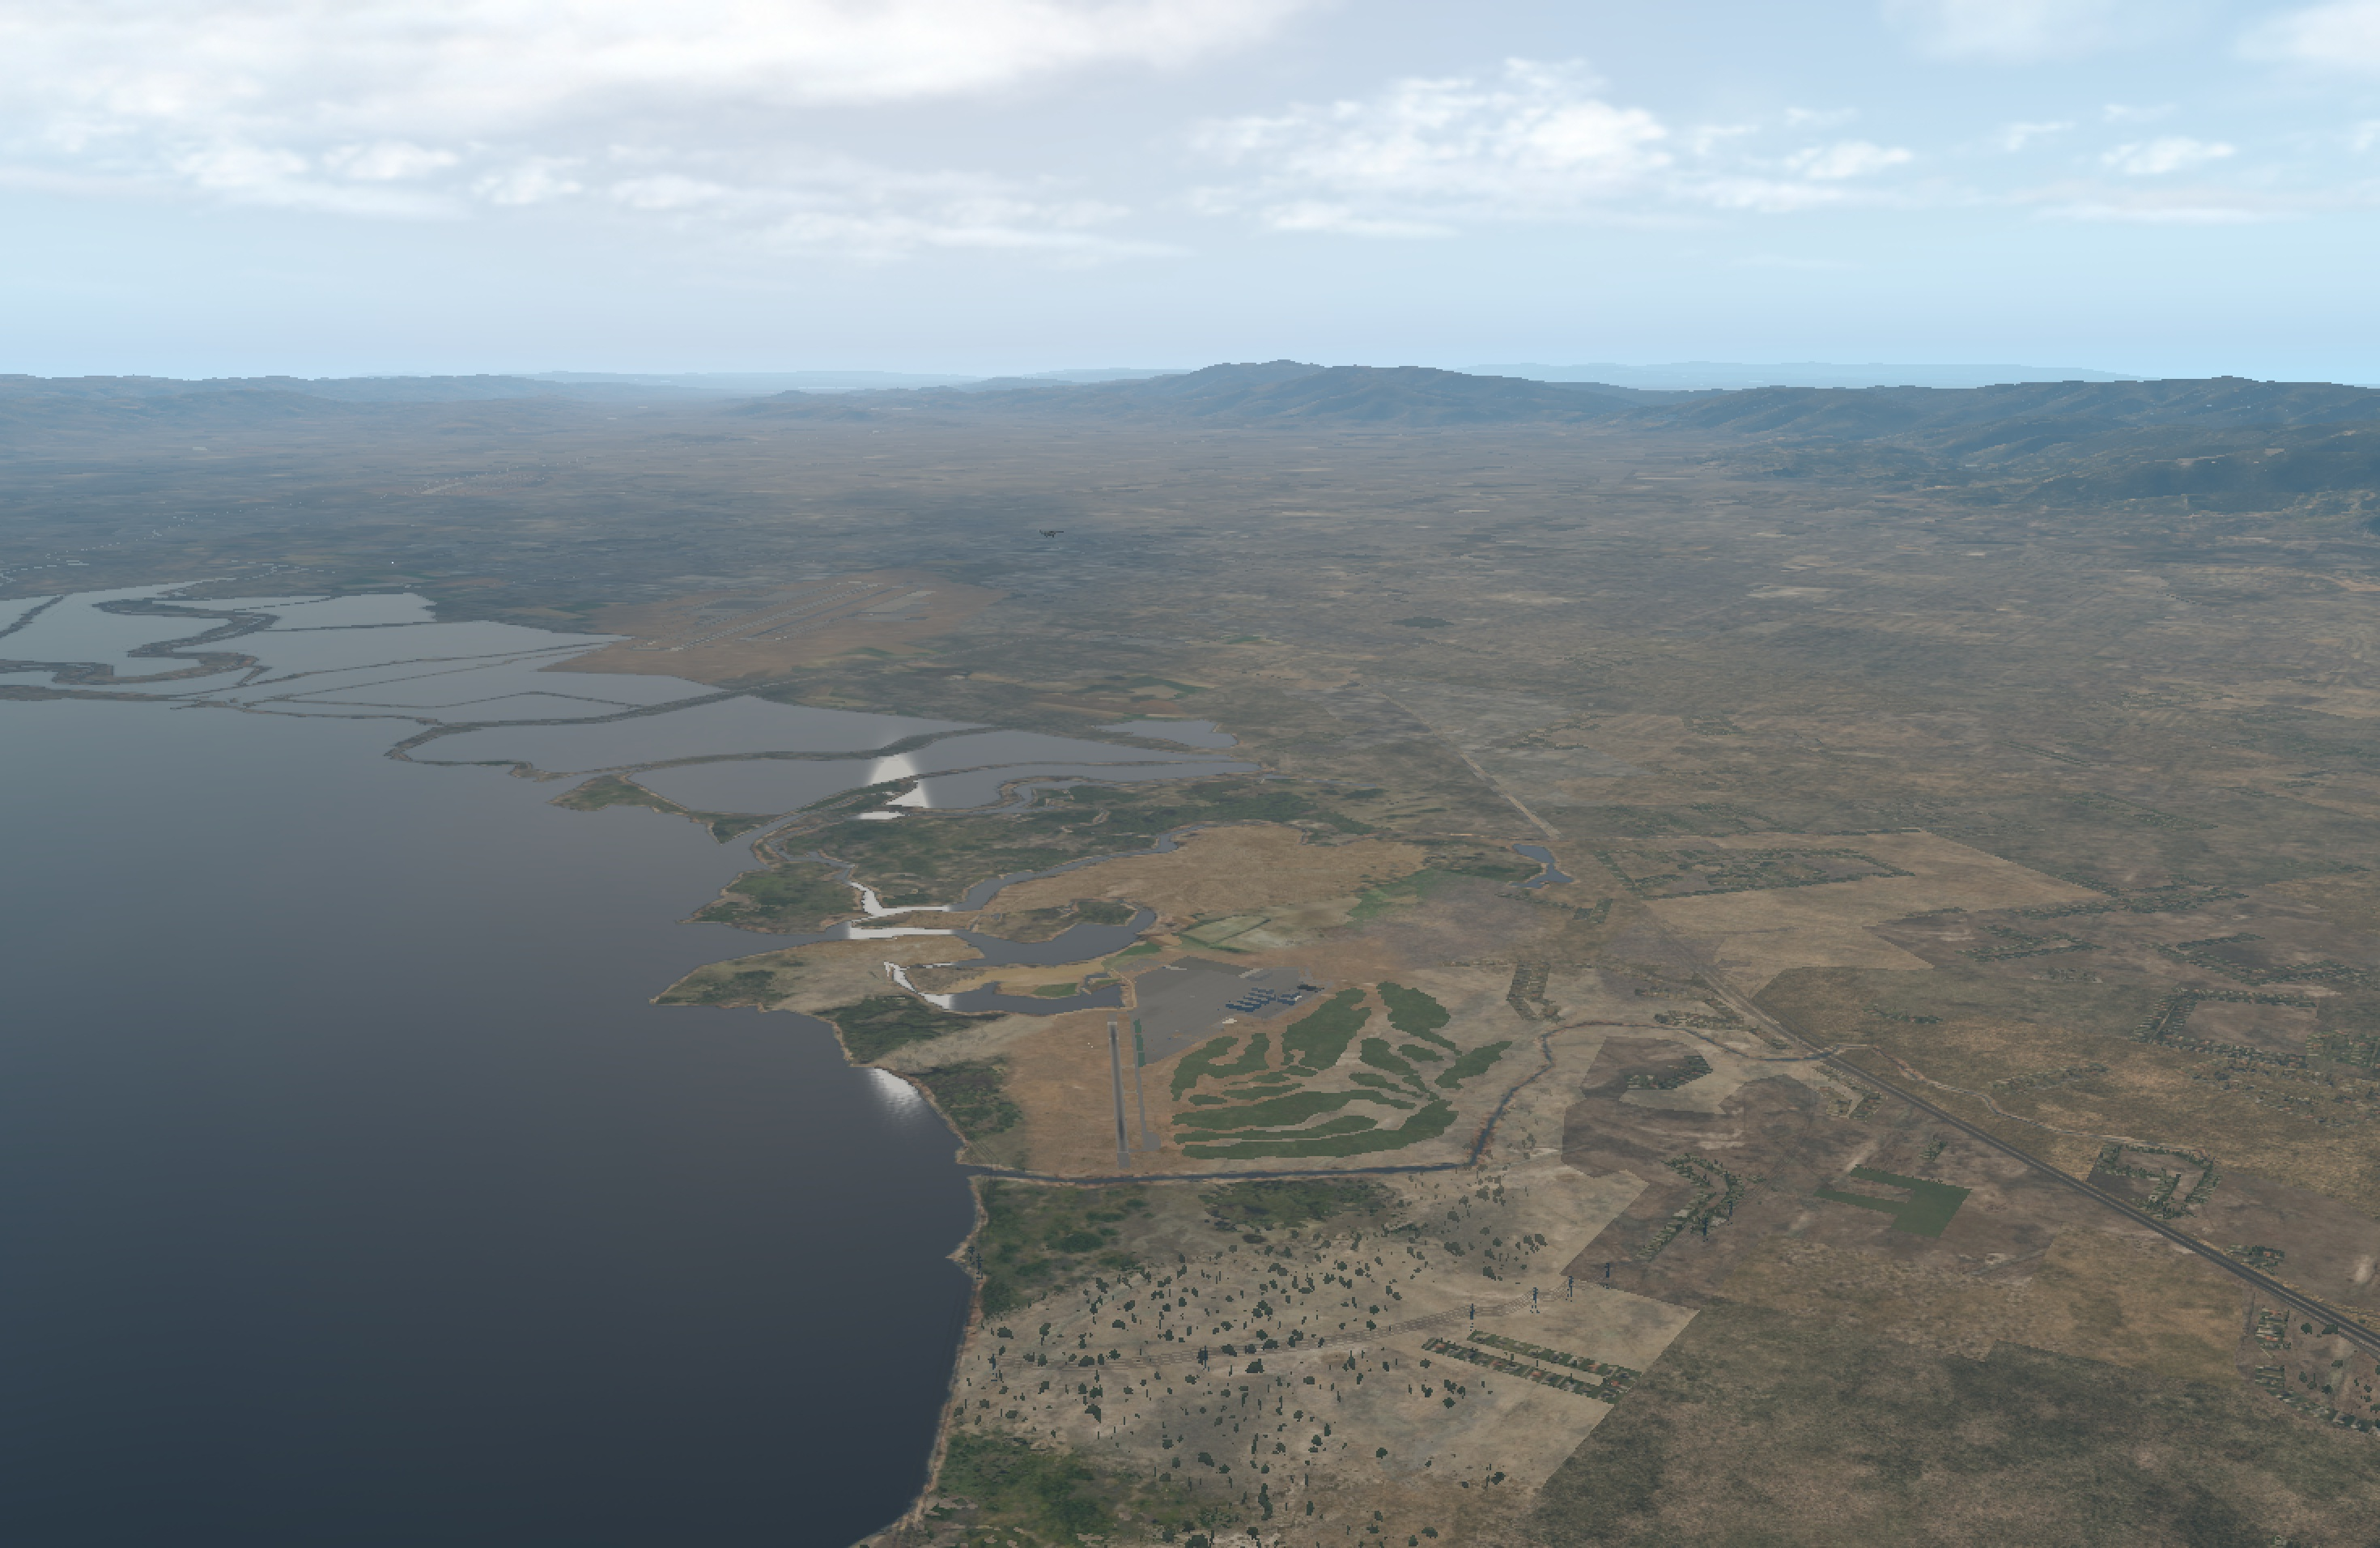aircraft: (1039, 529, 1062, 538)
